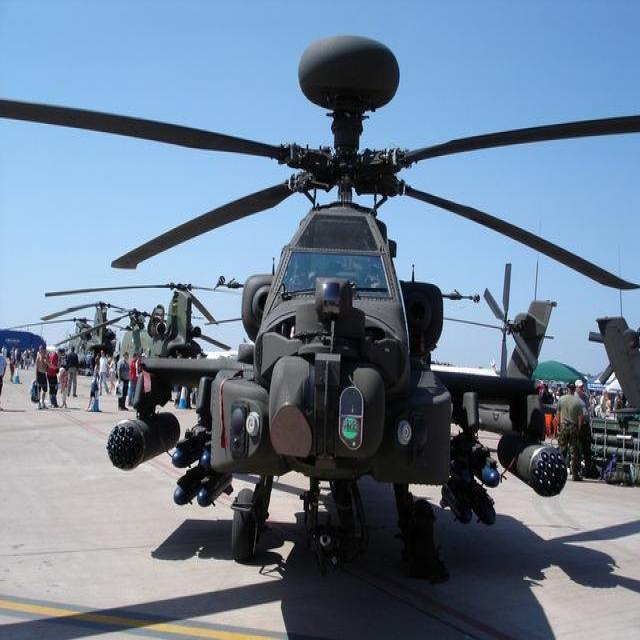MIL_HELO: (10, 27, 640, 576)
